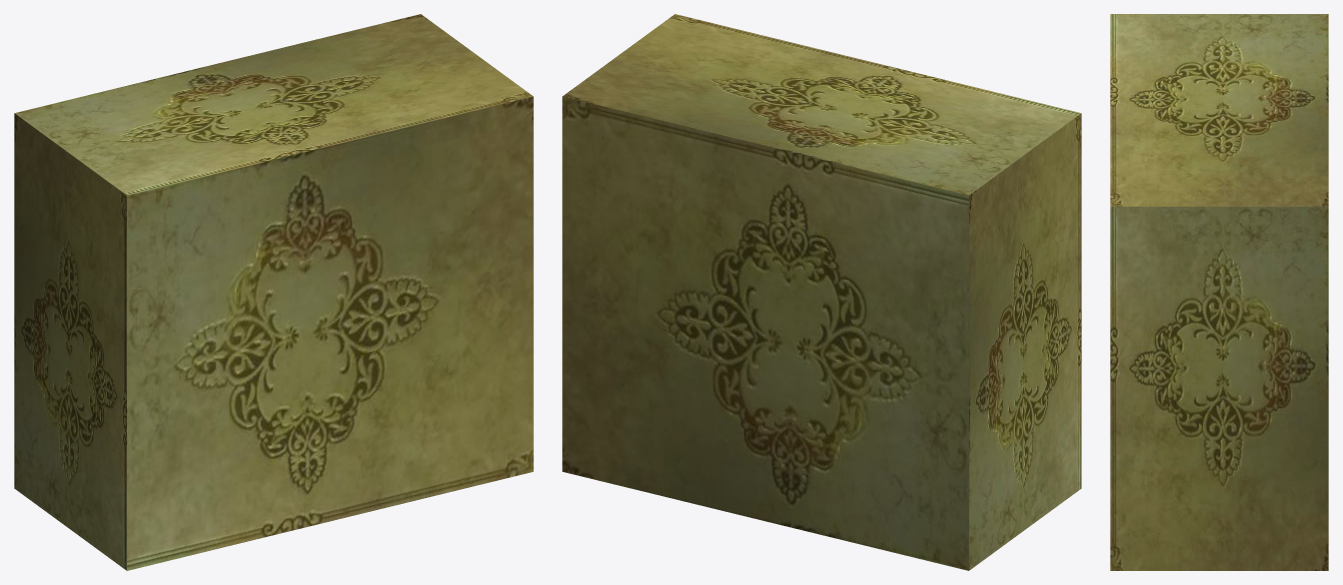
File: main.gltf
3 views of the same model, side by side, from view 1: azimuth 30°, elevation 25°; view 2: azimuth 150°, elevation 25°; view 3: azimuth 270°, elevation 25° (orthographic). The views are drawn at different scales.
Visible parts, largest first — view 1: book001; view 2: book001; view 3: book001.
Part boxes in pixels (left/top/right/bottom): book001: left=14, top=14, right=533, bottom=570; book001: left=562, top=14, right=1081, bottom=570; book001: left=1110, top=14, right=1328, bottom=570.
Bounding box in the file's own units: 0.417 × 0.368 × 0.2.
Materials: 2 (1 with a texture image).
